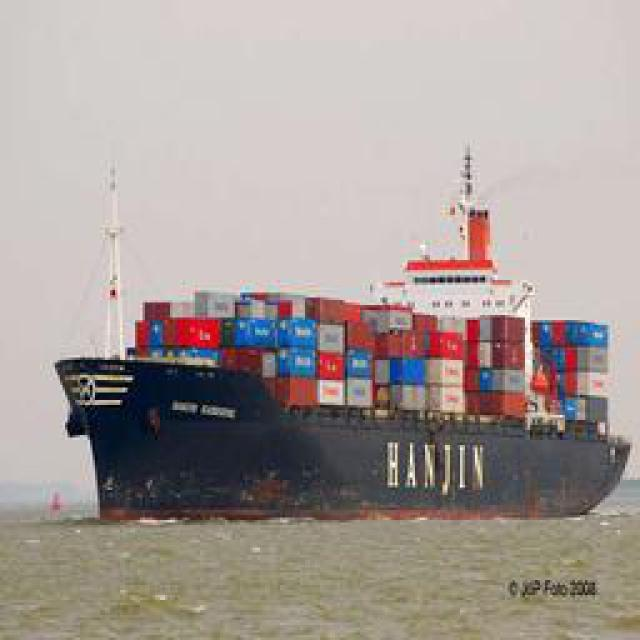Ship: (56, 120, 636, 515)
